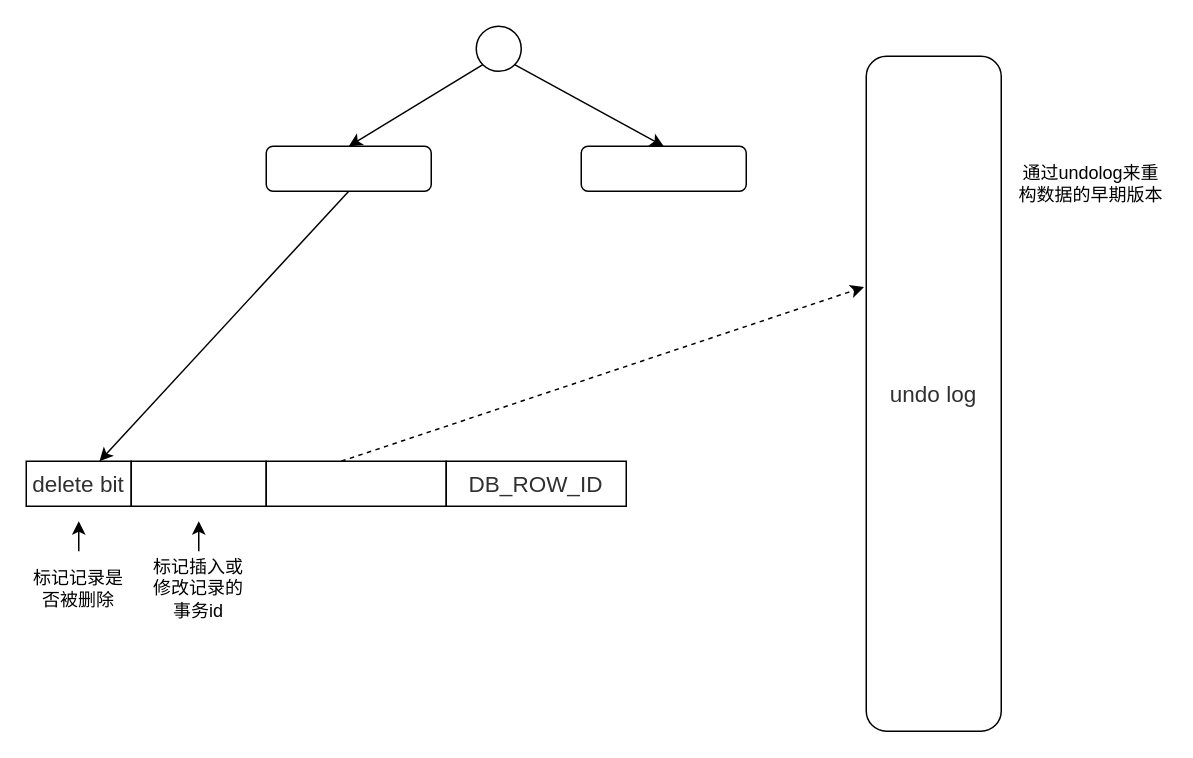
Image size: 1193x758. Some labels were removed from this diagram. Here are the shapes that lost their labels. From the top down, the box of each, then its label:
(130, 460, 266, 506): DB_TRX_ID
(265, 460, 446, 506): DB_ROLL_PTR
